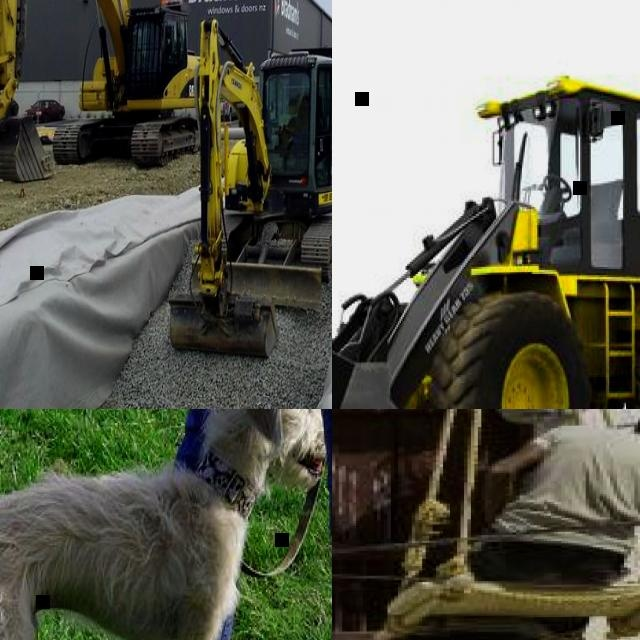NO-Safety Vest: (487, 426, 640, 554)
Person: (332, 409, 640, 640), (134, 409, 332, 640), (285, 95, 311, 152)
machinery: (332, 75, 640, 409), (166, 19, 332, 361), (0, 0, 204, 184)
vehicle: (24, 99, 64, 123)
